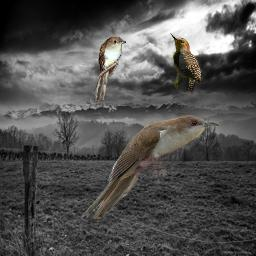Cuckoo: (81, 115, 219, 219), (94, 36, 126, 102)
Woodpecker: (170, 33, 201, 94)
